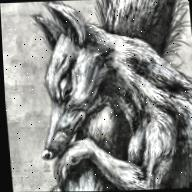boar: (28, 0, 192, 192)
